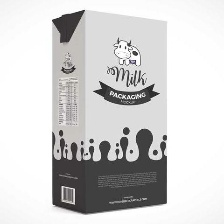carton: (48, 6, 174, 217)
